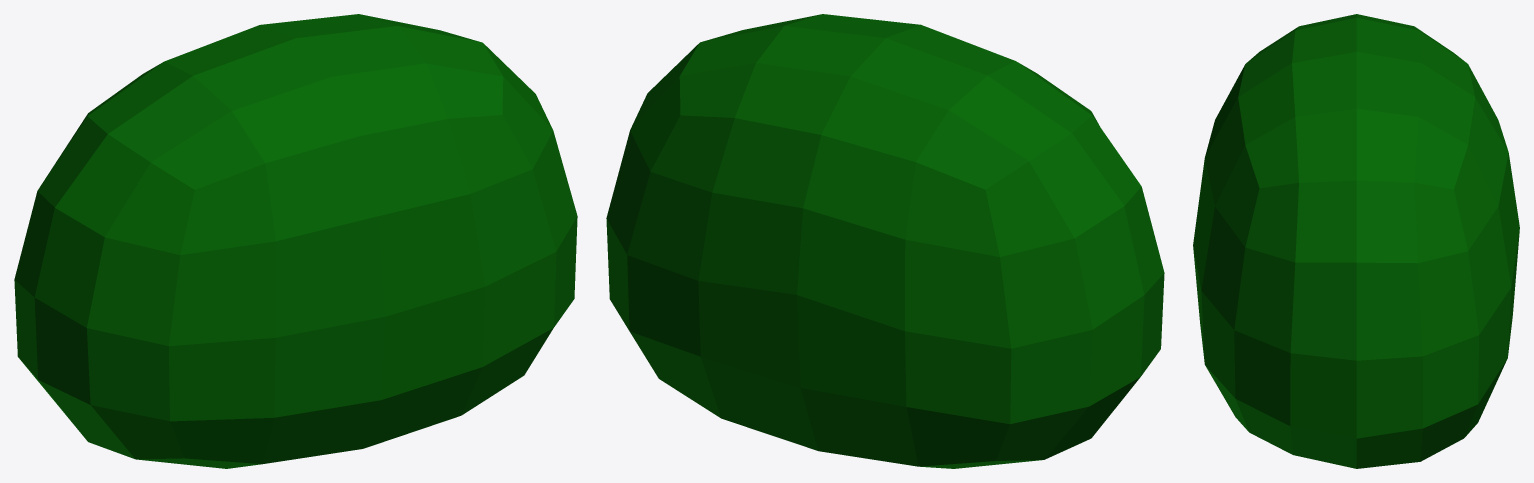
Rendered from GrassFour.glb.
3 views of the same model, side by side, from view 1: azimuth 30°, elevation 25°; view 2: azimuth 150°, elevation 25°; view 3: azimuth 270°, elevation 25° (orthographic). The views are drawn at different scales.
Visible parts, largest first — view 1: GrassFour; view 2: GrassFour; view 3: GrassFour.
Boxes of the visible parts, x1=… form: GrassFour: x1=14, y1=14, x2=577, y2=468; GrassFour: x1=606, y1=14, x2=1164, y2=468; GrassFour: x1=1193, y1=14, x2=1519, y2=468.
Size of the model in its own units: 22.67 by 16.17 by 13.48.
